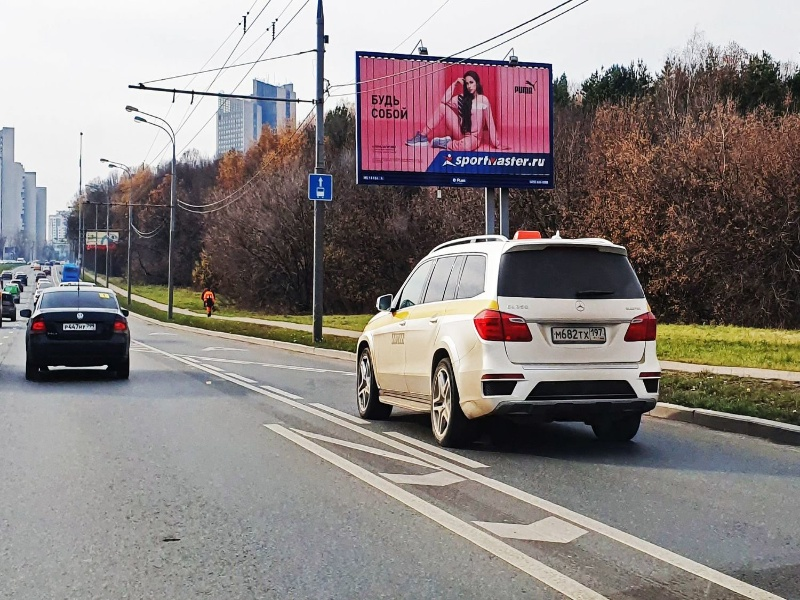car: (357, 230, 661, 447), (21, 287, 131, 376), (3, 291, 17, 322), (35, 271, 45, 280), (2, 270, 11, 278)
person: (405, 71, 512, 152), (201, 285, 215, 316)
plate: (552, 325, 606, 344), (63, 322, 95, 330)
